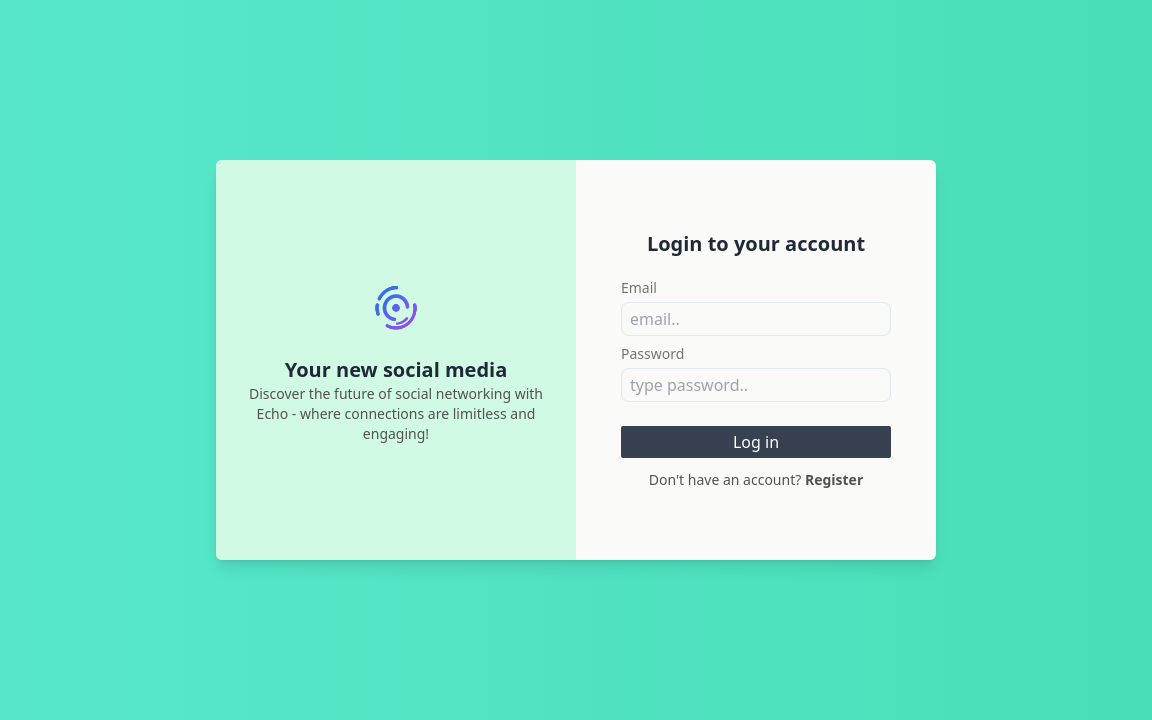
Scenario: Login spec › should display text danger when email & password is incorrect
Type "thisemail.com" into the field with placeholder "email..".
click(756, 319); type("thisemail.com")  # box top-left (621, 302), bottom-right (891, 336)
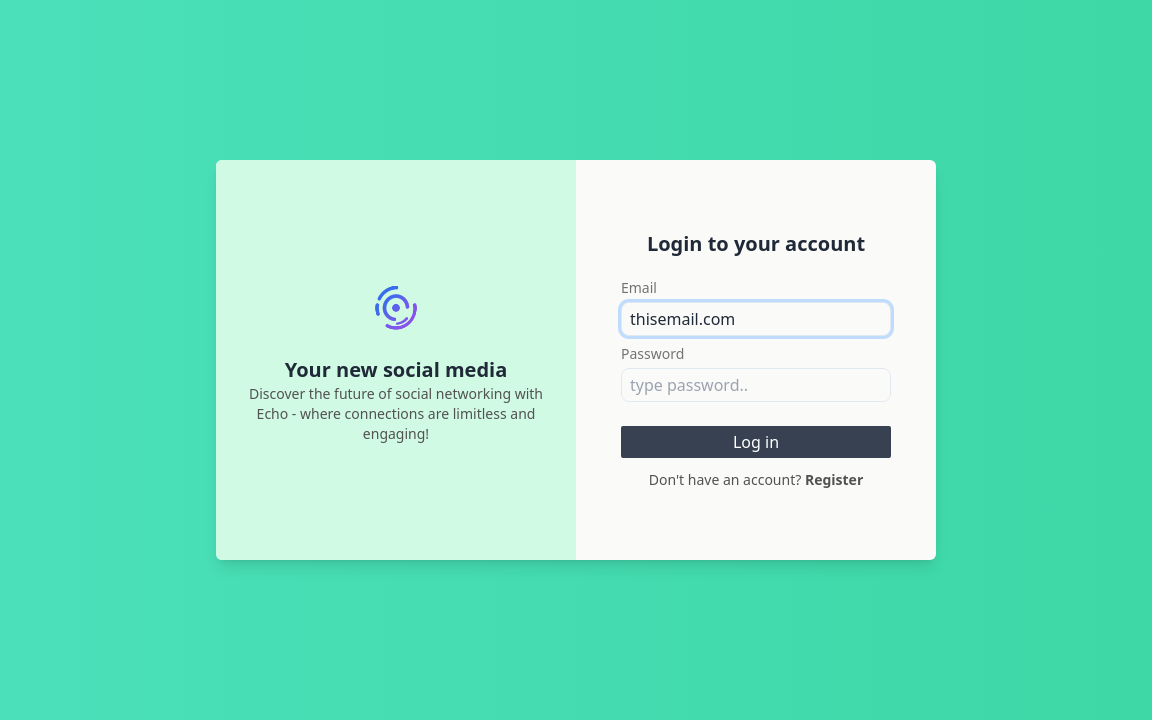
Type "1234" into the password field with placeholder "type password..".
click(756, 385); type("1234")  # box top-left (621, 368), bottom-right (891, 402)
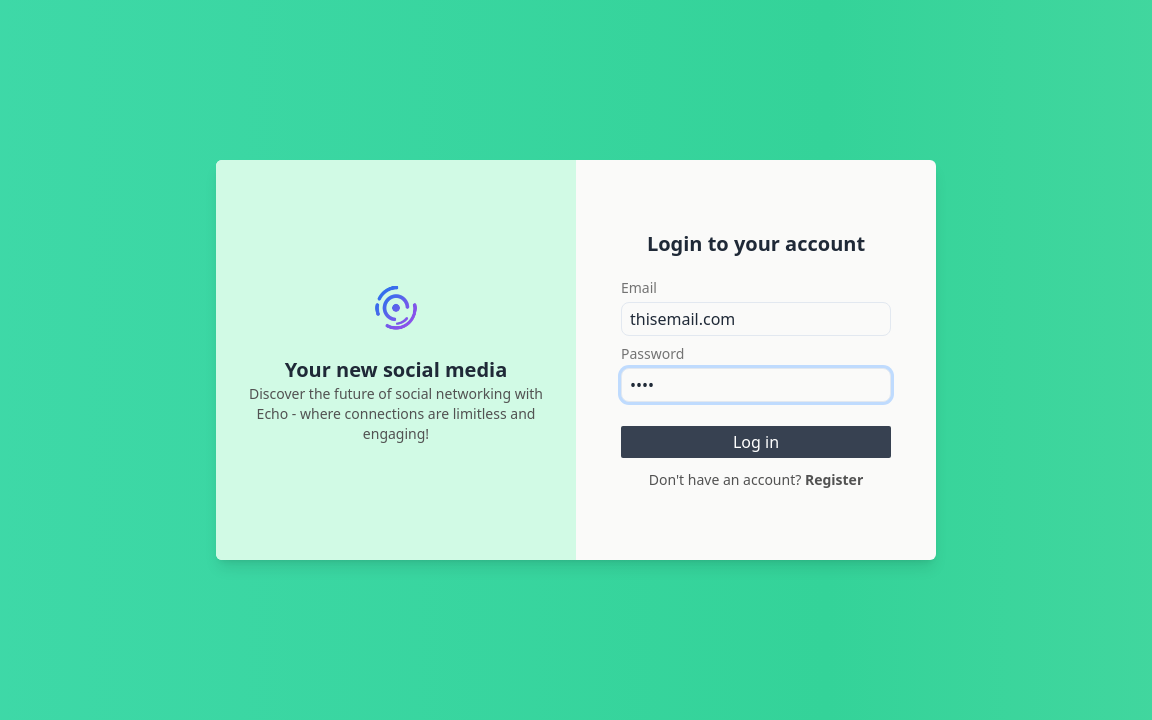
Click the button "Log in".
click(756, 442)  # box top-left (621, 426), bottom-right (891, 458)
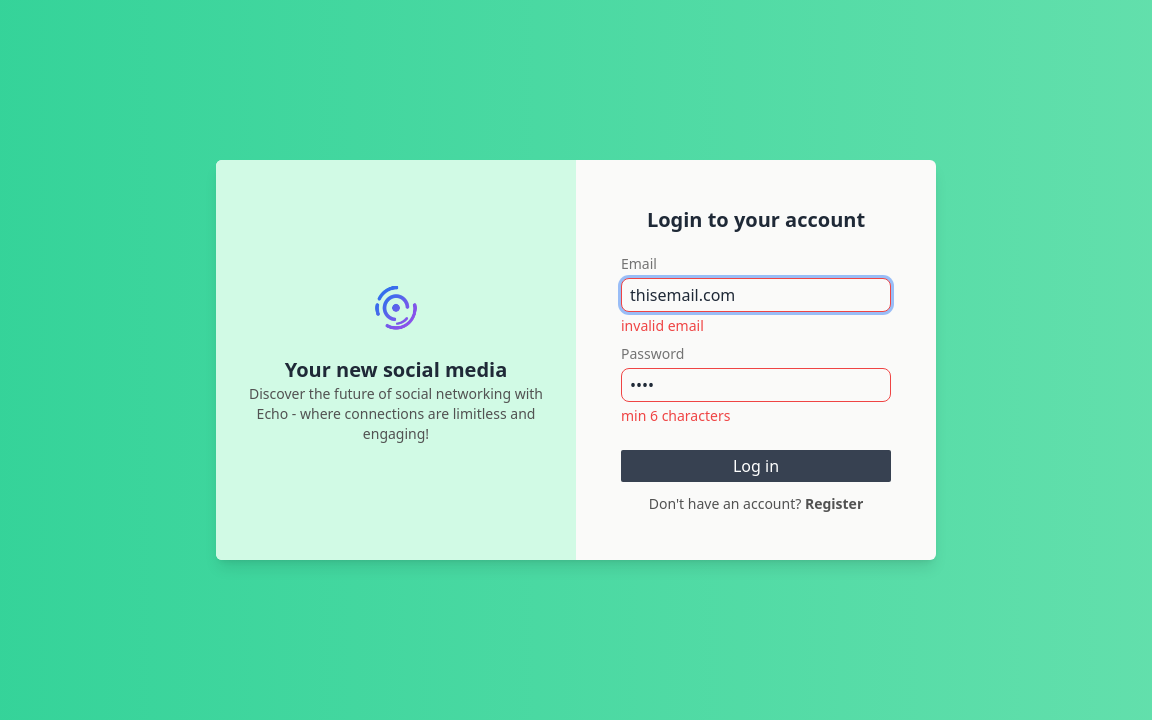
Result: the text "invalid email" is shown at top-left (621, 316), bottom-right (704, 335)
Result: the text "min 6 characters" is shown at top-left (621, 406), bottom-right (730, 425)
